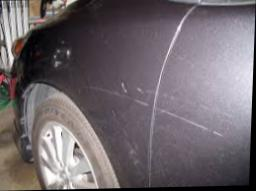Door: (155, 93, 234, 147)
Fender: (45, 25, 180, 136)
